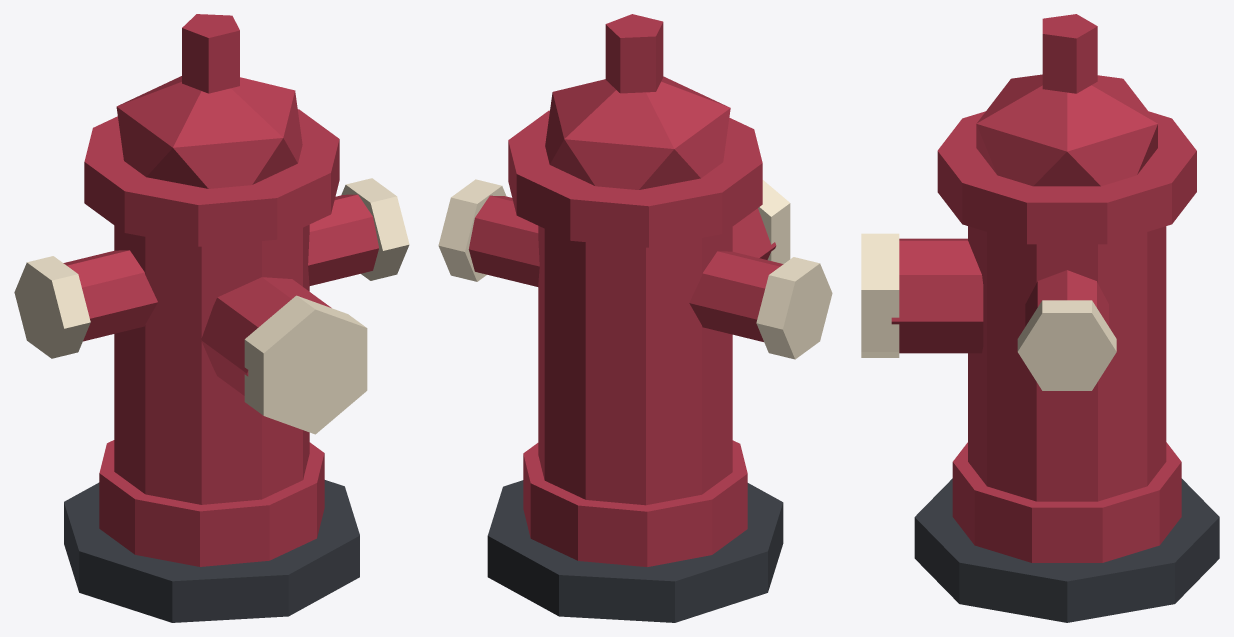
Rendered from hydrant.glb.
The picture shows the model from 3 angles, left to right: view 1: azimuth 30°, elevation 25°; view 2: azimuth 150°, elevation 25°; view 3: azimuth 270°, elevation 25°; orthographic projection.
Parts seen in each view (by area): view 1: hydrant; view 2: hydrant; view 3: hydrant.
Part boxes in pixels (bbox=[...]): hydrant: bbox=[14, 14, 409, 622]; hydrant: bbox=[438, 14, 832, 622]; hydrant: bbox=[861, 14, 1219, 622].
Bounding box in the file's own units: 0.52 × 0.77 × 0.47.
